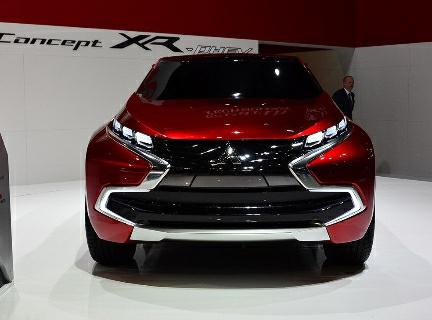三菱-XR-PHEV: (75, 50, 384, 282)
